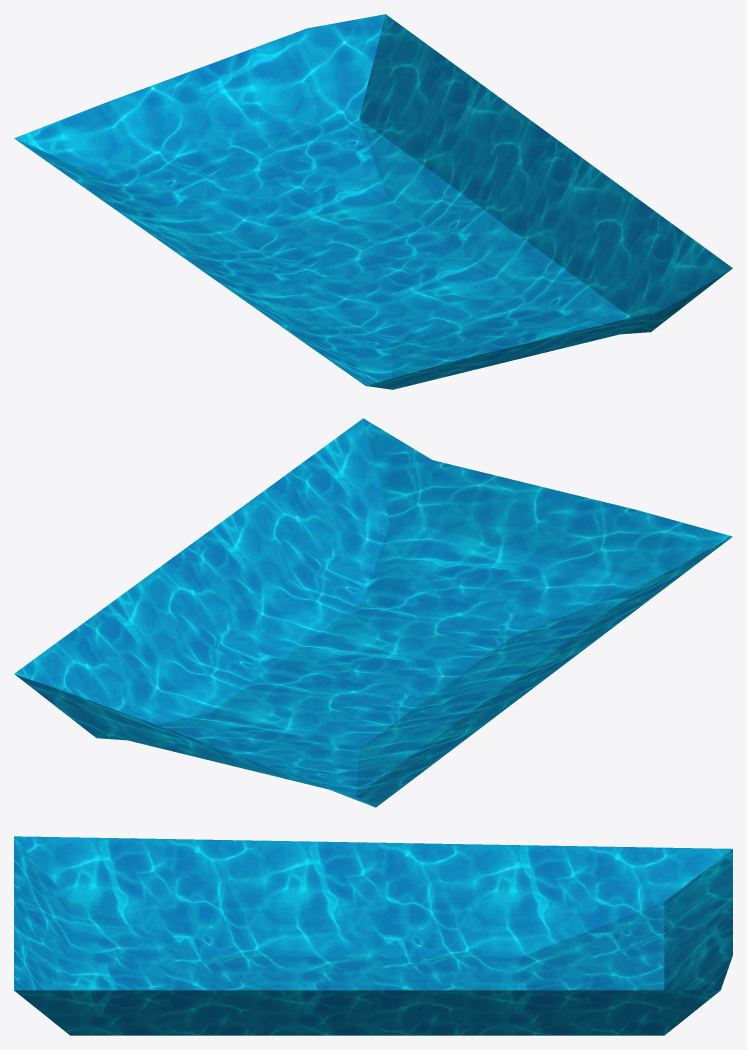
Rendered from river.fbx.
3 renders of one model, top to bottom at view 1: azimuth 30°, elevation 25°; view 2: azimuth 150°, elevation 25°; view 3: azimuth 270°, elevation 25°, orthographic.
Visible parts, largest first — view 1: pCylinder1.001; view 2: pCylinder1.001; view 3: pCylinder1.001.
Boxes of the visible parts, x1,y1,x2,y2 form: pCylinder1.001: (14,14,732,389); pCylinder1.001: (14,418,732,807); pCylinder1.001: (14,836,732,1035).
Bounding box in the file's own units: 153 × 34.57 × 255.
1 material, 1 textured.
